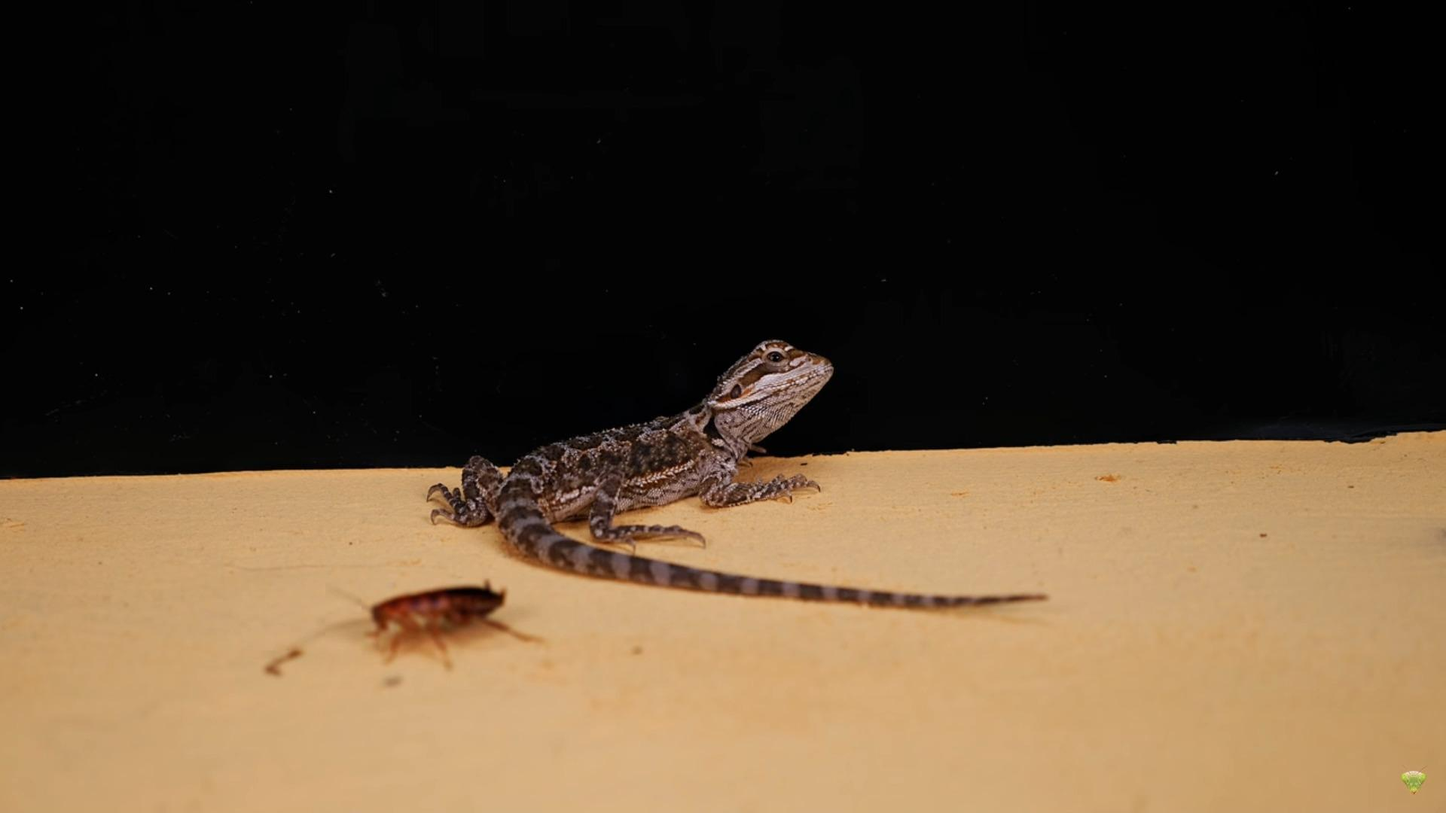cockroach: (320, 567, 545, 670)
lizard: (436, 334, 1055, 602)
